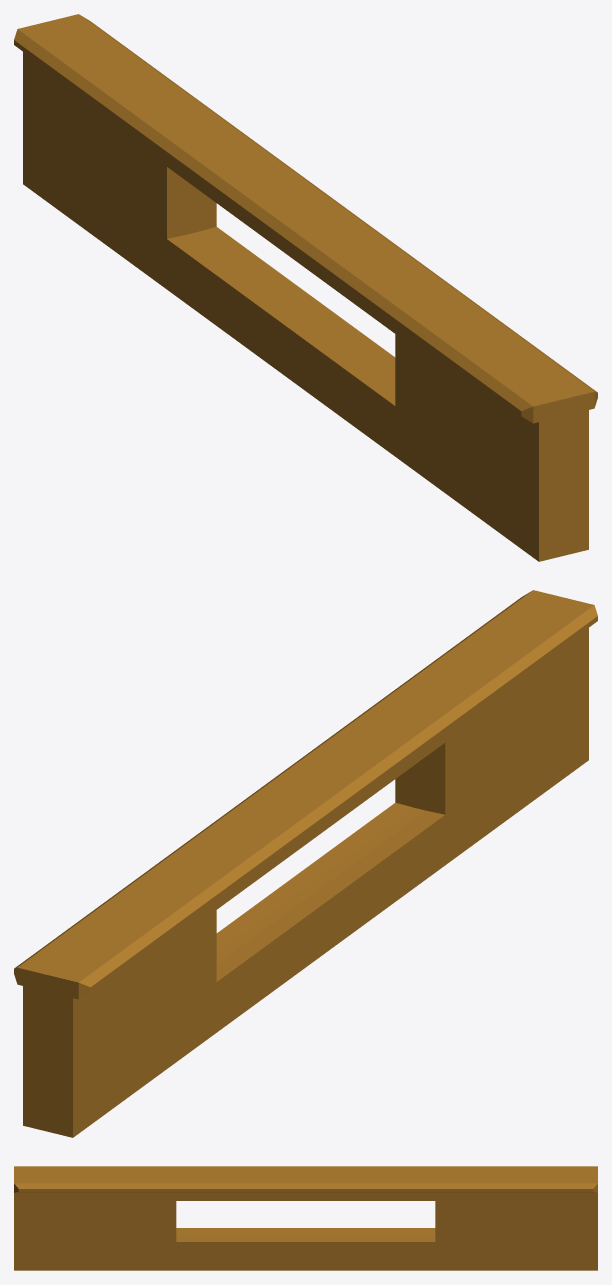
Rendered from WallwithMirror.fbx.
3 renders of one model, top to bottom at view 1: azimuth 30°, elevation 25°; view 2: azimuth 150°, elevation 25°; view 3: azimuth 270°, elevation 25°, orthographic. The views are drawn at different scales.
Visible parts, largest first — view 1: CommonWall.004; view 2: CommonWall.004; view 3: CommonWall.004.
Part boxes in pixels (x1,y1,x2,y2): CommonWall.004: [14, 14, 597, 561]; CommonWall.004: [14, 590, 597, 1137]; CommonWall.004: [14, 1166, 597, 1270].
Size of the model in its own units: 154 by 300 by 1790.
